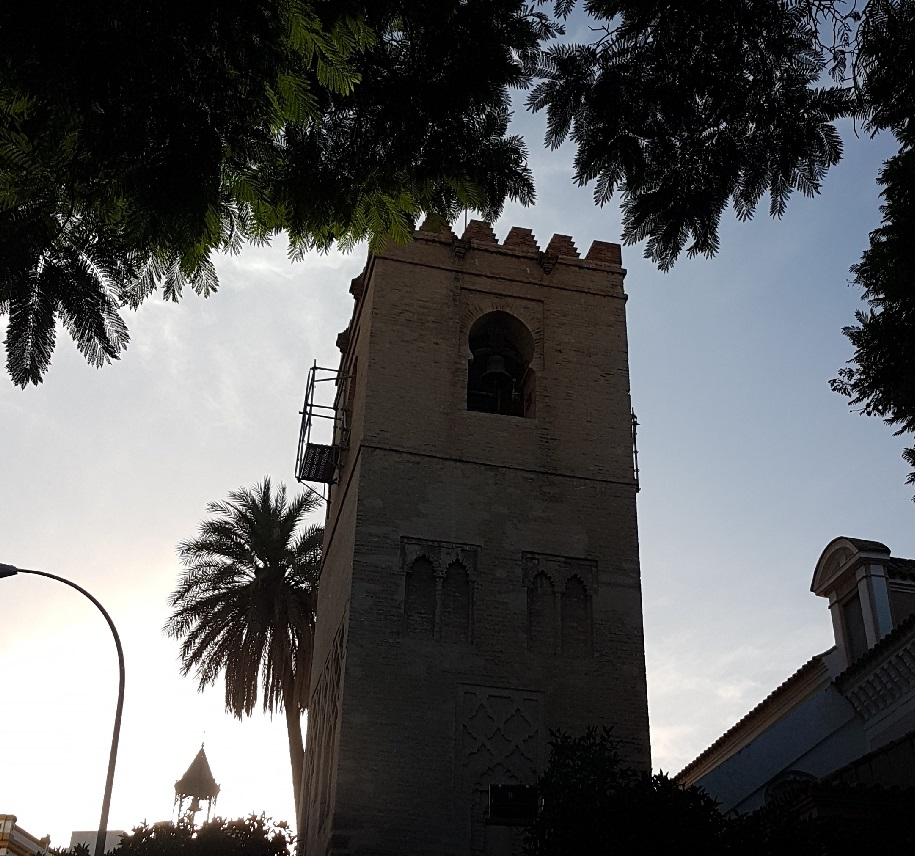arco-herradura: (463, 304, 542, 373)
